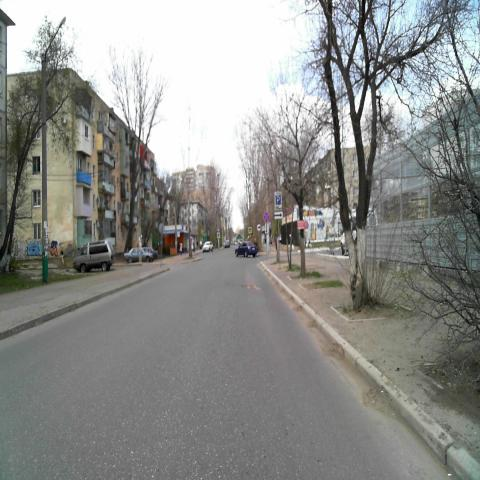3_27: (263, 210, 269, 222)
8_3_1: (274, 211, 282, 219)
